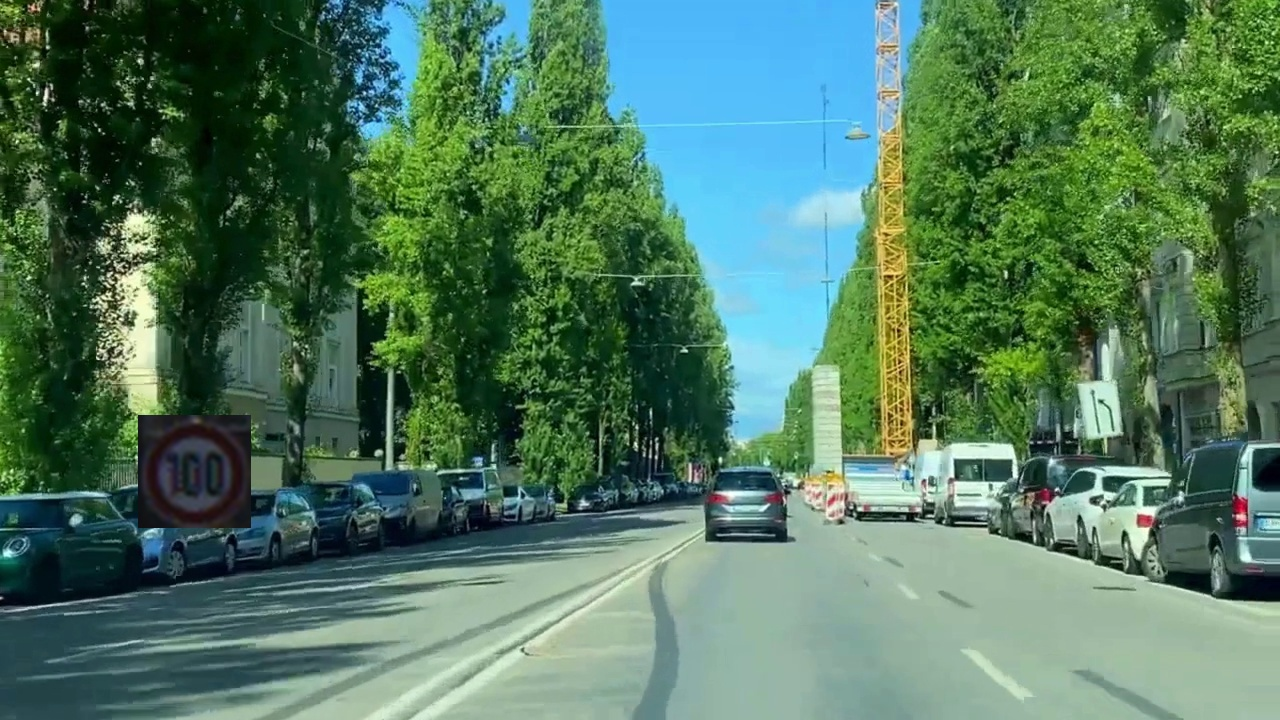Speed 100: (138, 415, 251, 528)
